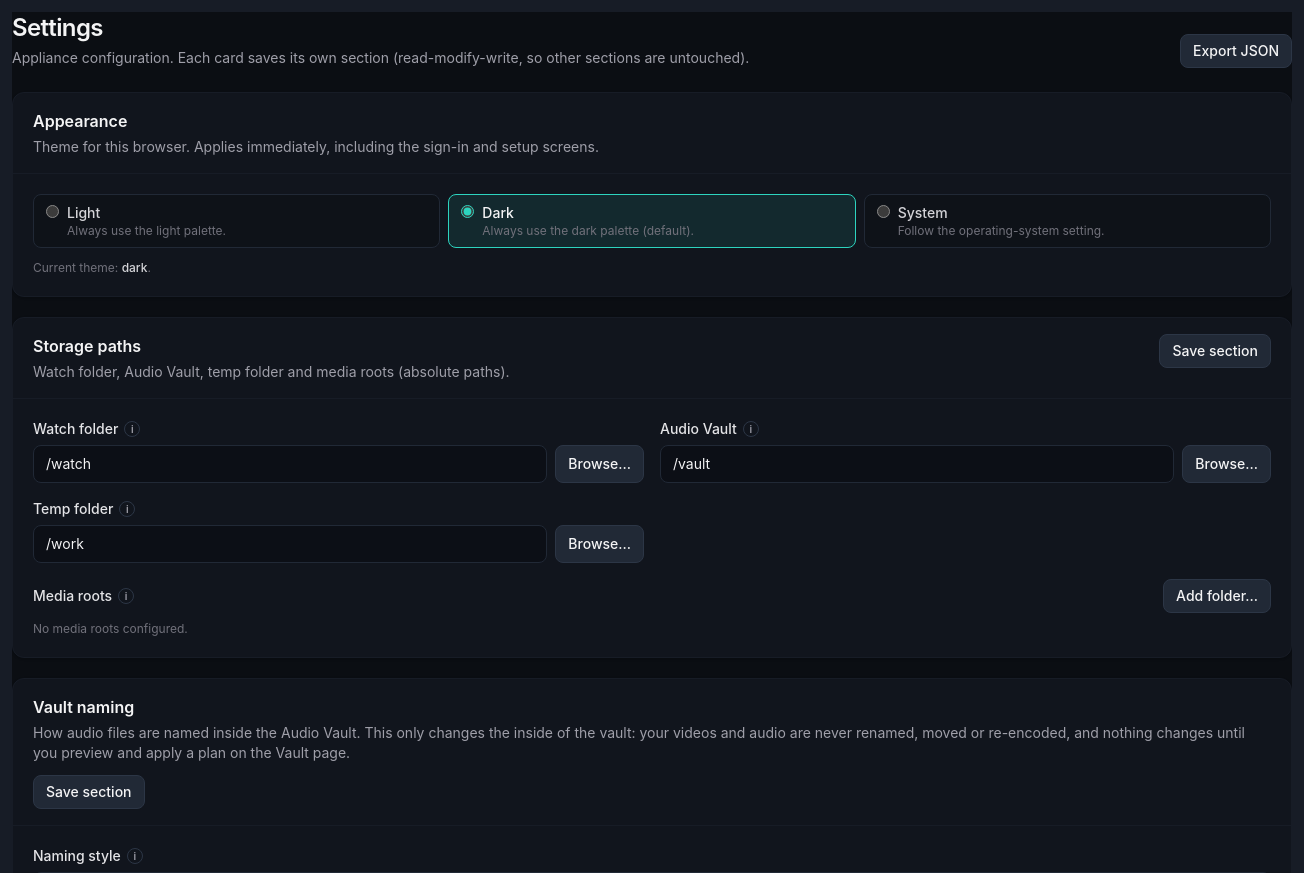
Scenario: settings section save › PUTs the whole storage.paths section
expect the heading "Storage paths" is shown: met, box [33, 336, 141, 356]
Replace the text in the field labelled "Watch folder" with "/new/watch" at (290, 464), box [33, 445, 547, 483]
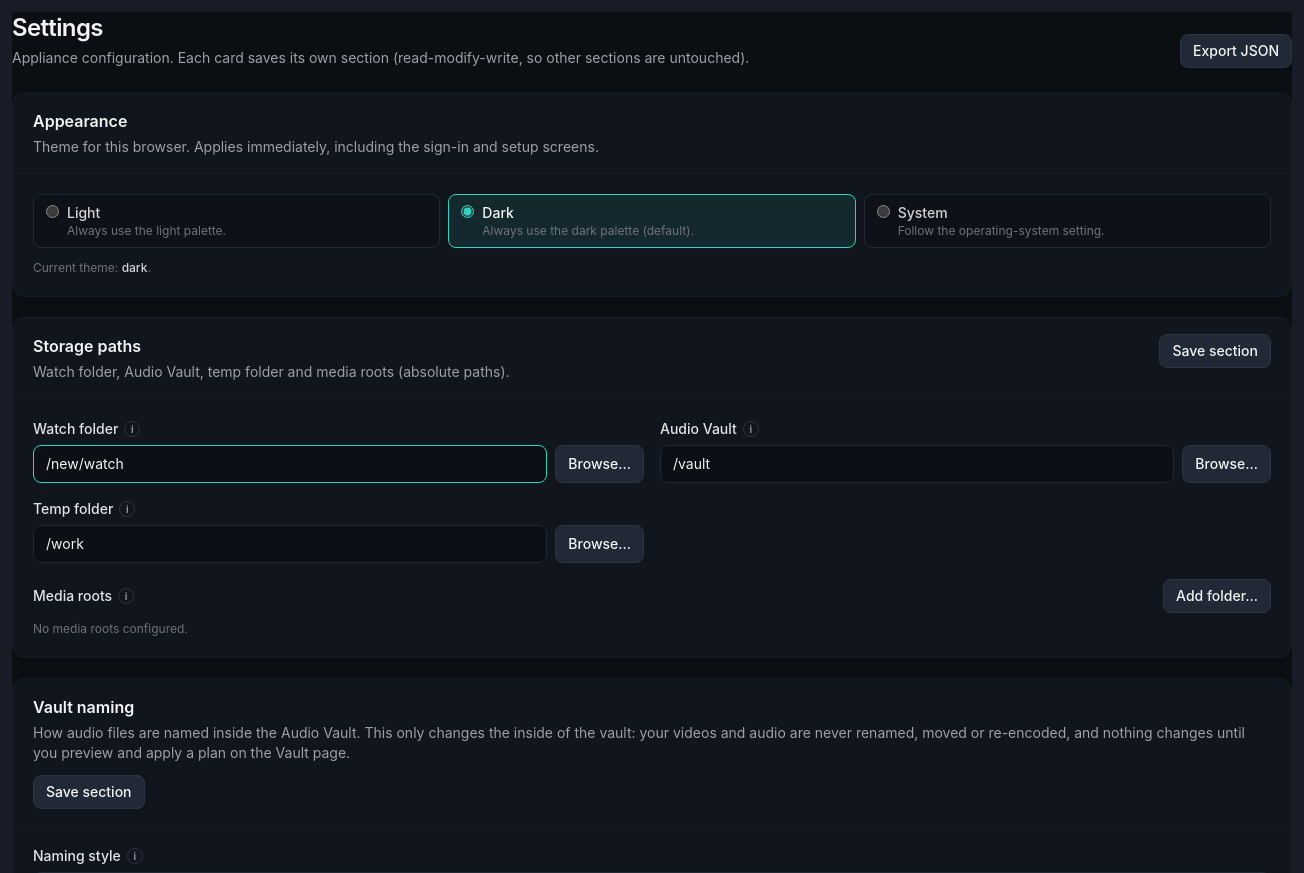
Click the button with aria-label "Save Storage paths" at (1215, 351), box [1160, 334, 1271, 368]
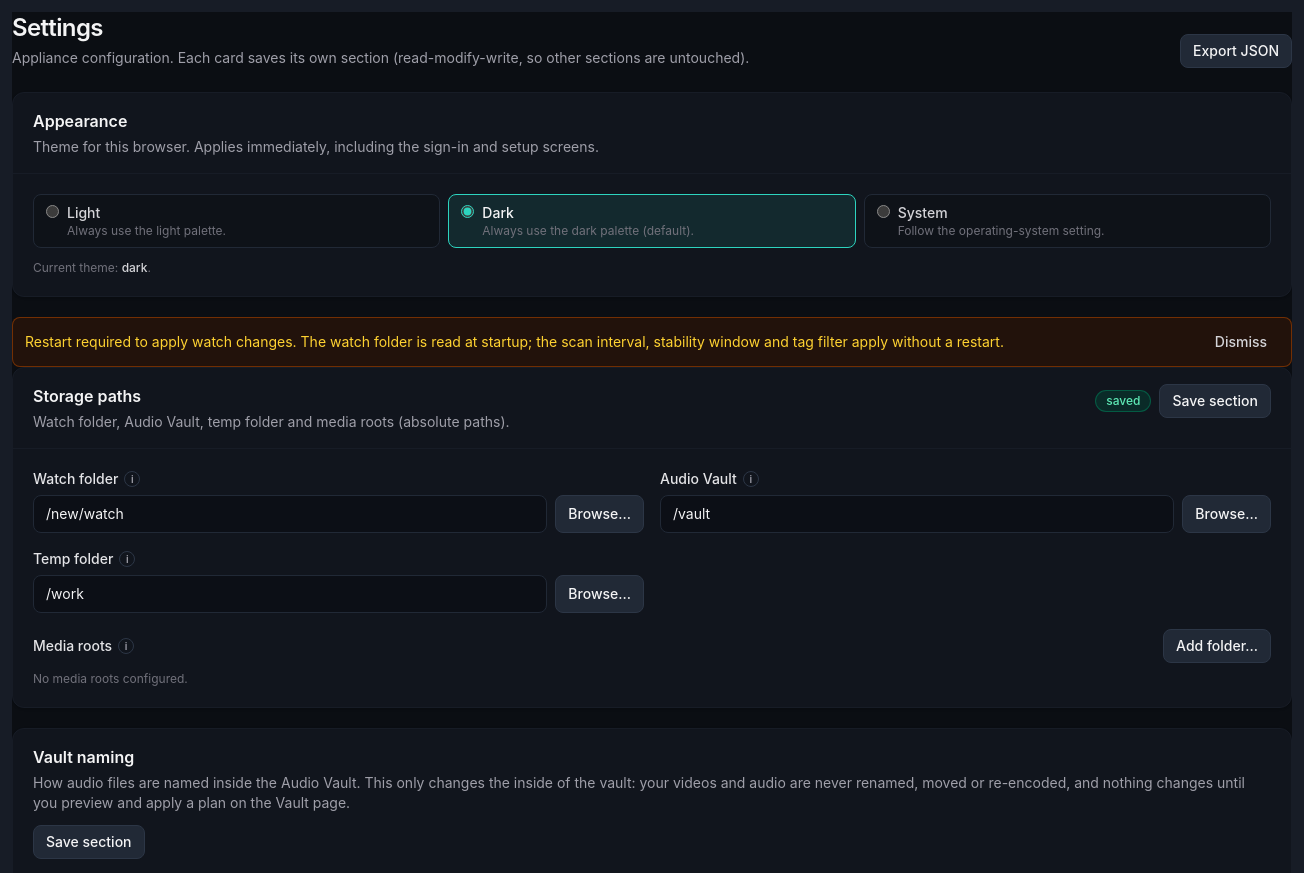
expect the text "saved" is shown: met, box [1095, 390, 1151, 412]
